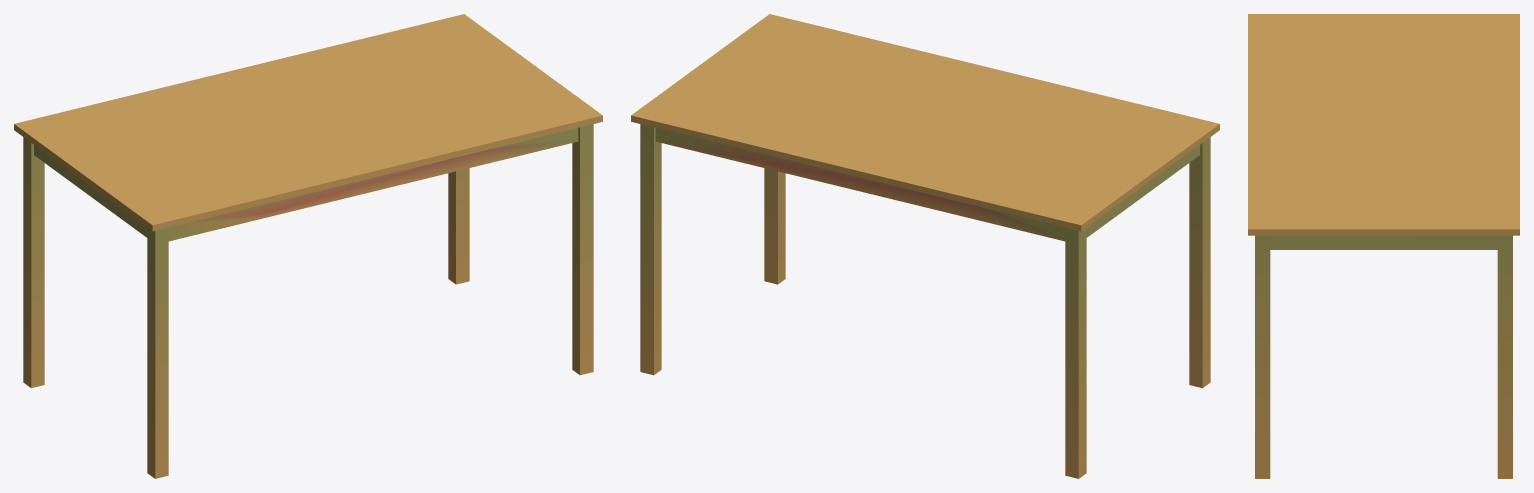
The picture shows the model from 3 angles, left to right: view 1: azimuth 30°, elevation 25°; view 2: azimuth 150°, elevation 25°; view 3: azimuth 270°, elevation 25°; orthographic projection. The views are drawn at different scales.
Parts seen in each view (by area): view 1: top, long_rail.001, leg, leg.001, leg.002, leg.003, end_rail; view 2: top, long_rail.001, leg.002, leg.003, leg, leg.001, end_rail; view 3: top, leg.001, leg.003, end_rail.001.
Part boxes in pixels (x1,y1,x2,y2): top: (14,14,602,231); long_rail.001: (168,128,578,241); leg: (147,228,168,478); leg.001: (572,124,593,375); leg.002: (23,137,44,388); leg.003: (448,168,469,284); end_rail: (34,145,147,237); top: (631,14,1219,231); long_rail.001: (655,128,1065,241); leg.002: (1065,228,1086,478); leg.003: (640,124,661,375); leg: (1189,137,1210,388); leg.001: (764,168,785,284); end_rail: (1086,145,1199,237); top: (1248,14,1519,235); leg.001: (1255,235,1270,478); leg.003: (1497,235,1512,478); end_rail.001: (1270,235,1497,249).
Bounding box in the file's own units: 1.5 × 0.82 × 0.8001.
